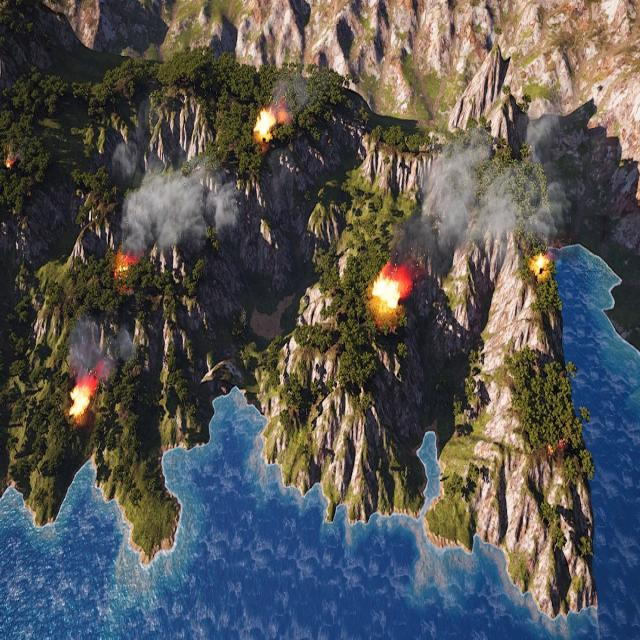fire: (370, 266, 408, 312), (68, 379, 94, 419), (255, 108, 278, 140), (530, 253, 552, 280), (112, 251, 133, 278), (3, 156, 16, 174)
smoke: (390, 111, 564, 250), (107, 138, 240, 258), (66, 317, 135, 384)
